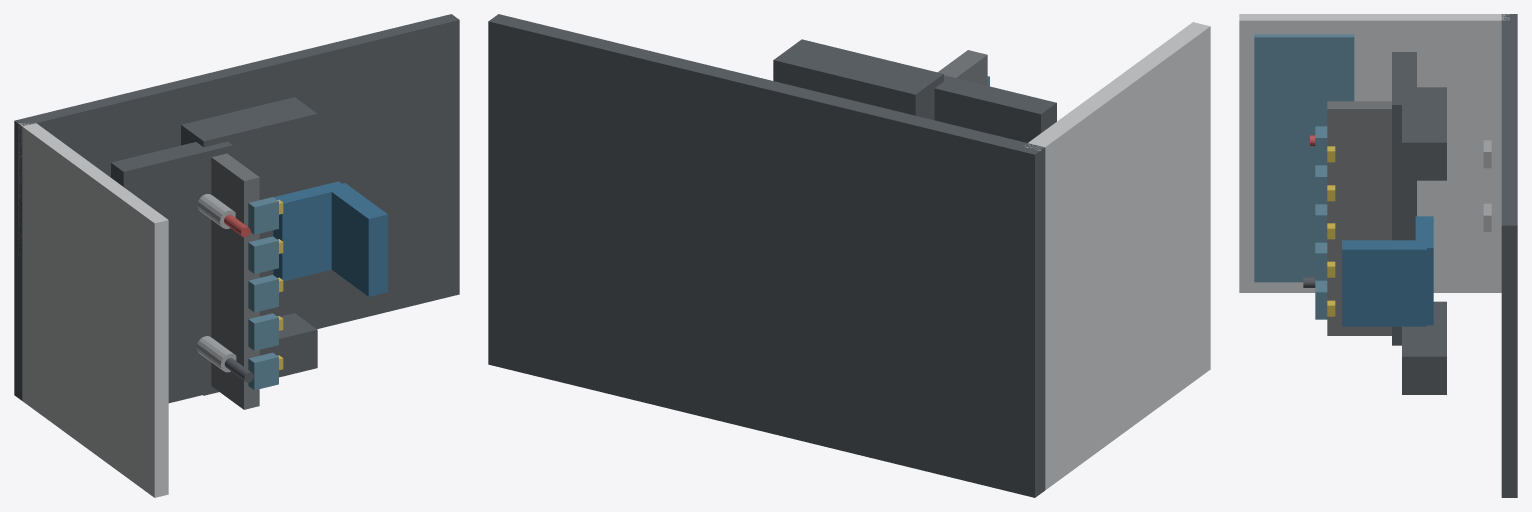
The model's file is driver_cab_interior_detailed.glb.
3 views of the same model, side by side, from view 1: azimuth 30°, elevation 25°; view 2: azimuth 150°, elevation 25°; view 3: azimuth 270°, elevation 25° (orthographic). The views are drawn at different scales.
Visible parts, largest first — view 1: cab_floor, front_wall, desk, instrument_panel, side_console_1, seat_back, driver_seat, side_console, display_2, display_1, display_3, display_4 (+3 smaller); view 2: cab_floor, front_wall, side_console_1, desk, instrument_panel; view 3: front_wall, windscreen, instrument_panel, cab_floor, seat_back, side_console_1, desk, side_console, driver_seat, display, display_3, display_4 (+2 smaller).
Boxes of the visible parts, <box> form: cab_floor: <box>14,14,459,400</box>; front_wall: <box>18,122,168,497</box>; desk: <box>111,141,232,403</box>; instrument_panel: <box>211,153,259,409</box>; side_console_1: <box>181,97,317,168</box>; seat_back: <box>331,183,387,296</box>; driver_seat: <box>273,181,347,281</box>; side_console: <box>203,313,317,395</box>; display_2: <box>248,275,278,312</box>; display_1: <box>248,313,278,350</box>; display_3: <box>248,236,278,273</box>; display_4: <box>248,197,278,234</box>; cab_floor: <box>488,14,1045,497</box>; front_wall: <box>1025,22,1210,489</box>; side_console_1: <box>773,39,943,120</box>; desk: <box>934,75,1056,142</box>; instrument_panel: <box>938,50,987,85</box>; front_wall: <box>1239,14,1509,292</box>; windscreen: <box>1254,34,1354,282</box>; instrument_panel: <box>1327,101,1391,335</box>; cab_floor: <box>1501,14,1517,497</box>; seat_back: <box>1342,240,1426,326</box>; side_console_1: <box>1402,87,1446,180</box>; desk: <box>1392,52,1416,345</box>; side_console: <box>1402,301,1446,394</box>; driver_seat: <box>1415,216,1433,325</box>; display: <box>1315,280,1327,319</box>; display_3: <box>1315,165,1327,204</box>; display_4: <box>1315,126,1327,165</box>.
Size of the model in its own units: 5 by 3 by 2.78.
